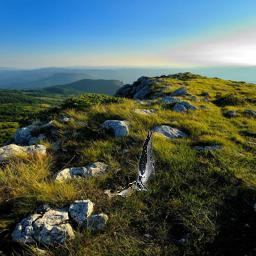Woodpecker: (133, 127, 155, 191), (111, 179, 137, 197)
